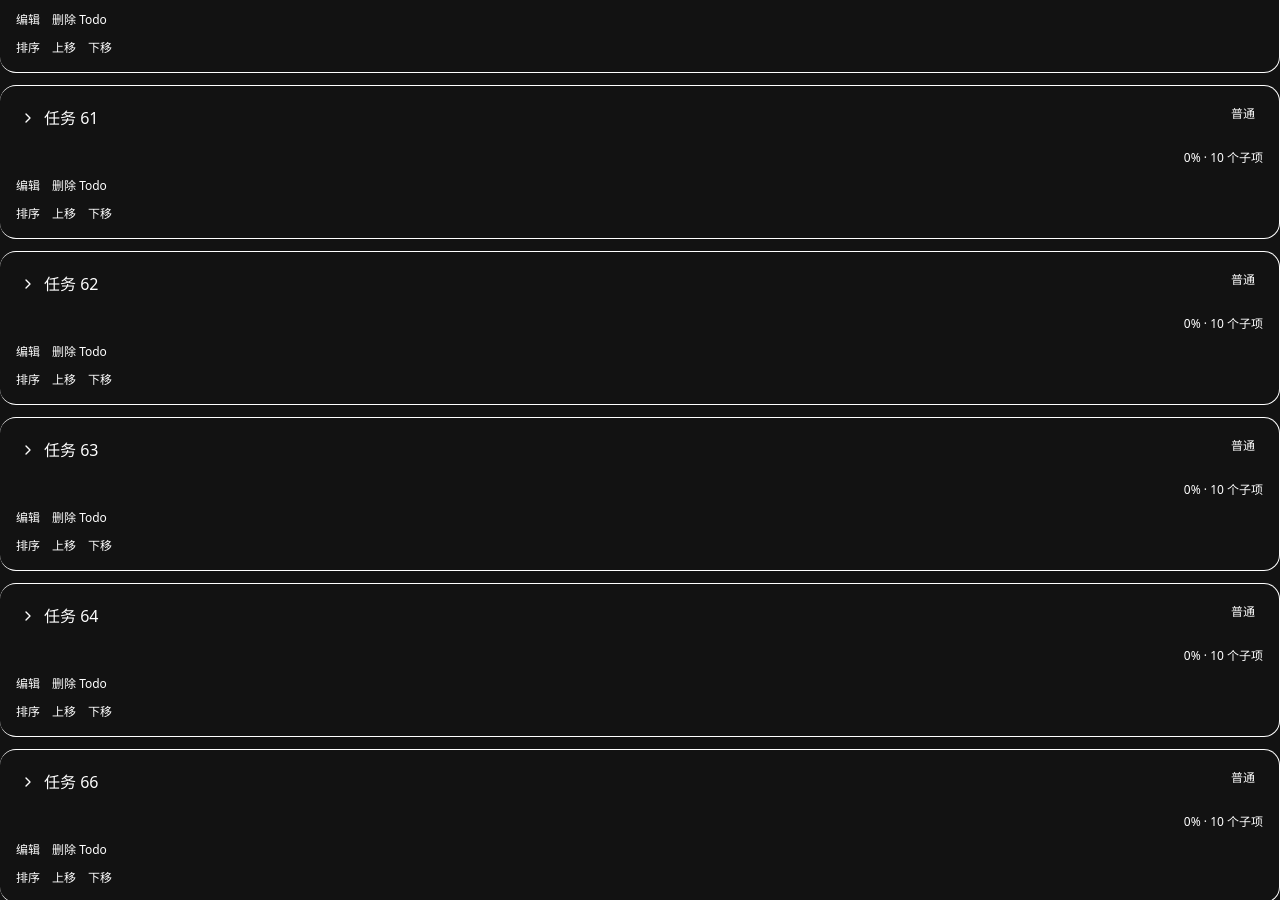
renders and toggles 100 Todos without losing rows
This screenshot has width=1280, height=900.
(page scrolled)
Click the button "任务 63" at (71, 450), box top-left (16, 434), bottom-right (1211, 466)
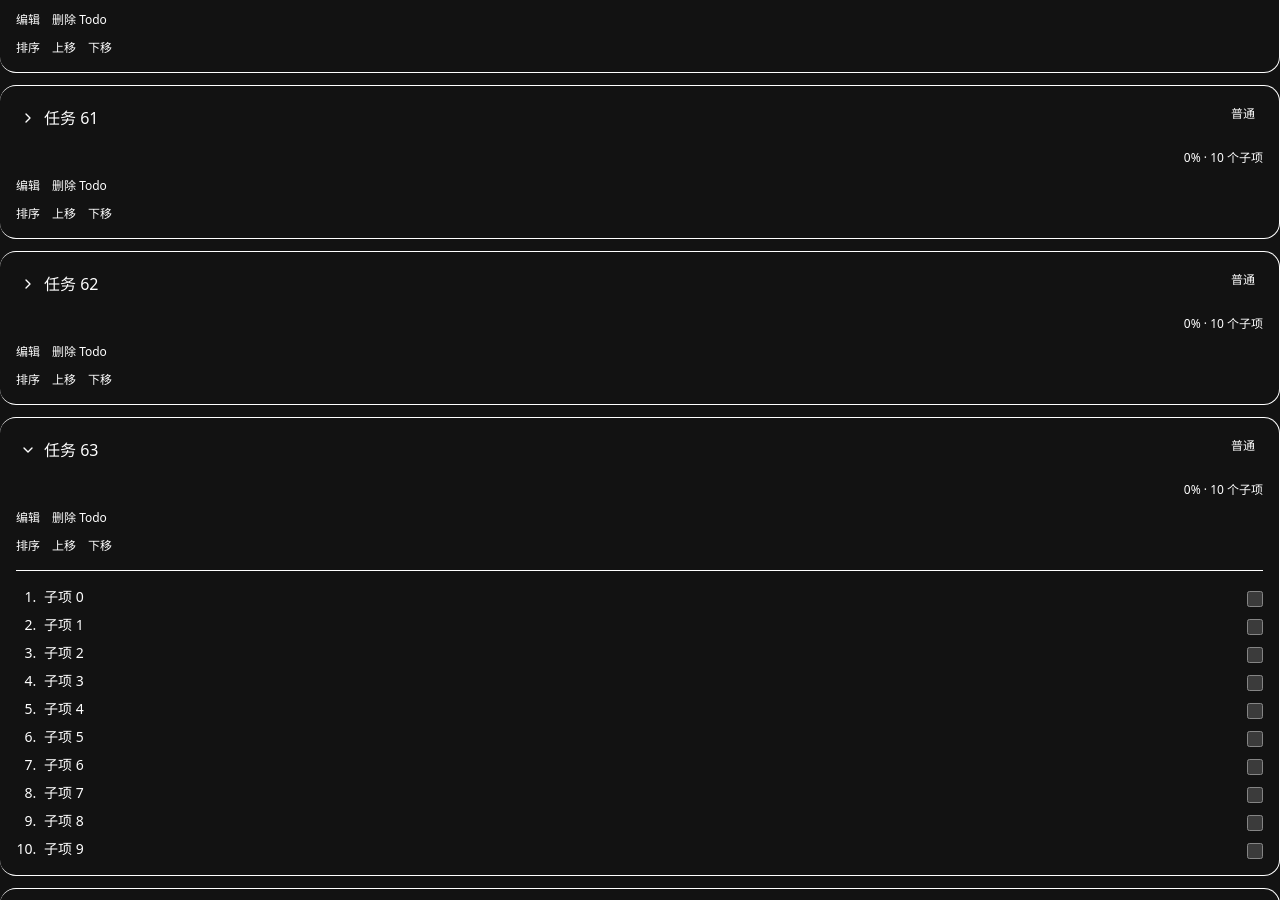
Check: the button "任务 63" is expanded
Click the button "任务 63" at (71, 450), box top-left (16, 434), bottom-right (1211, 466)
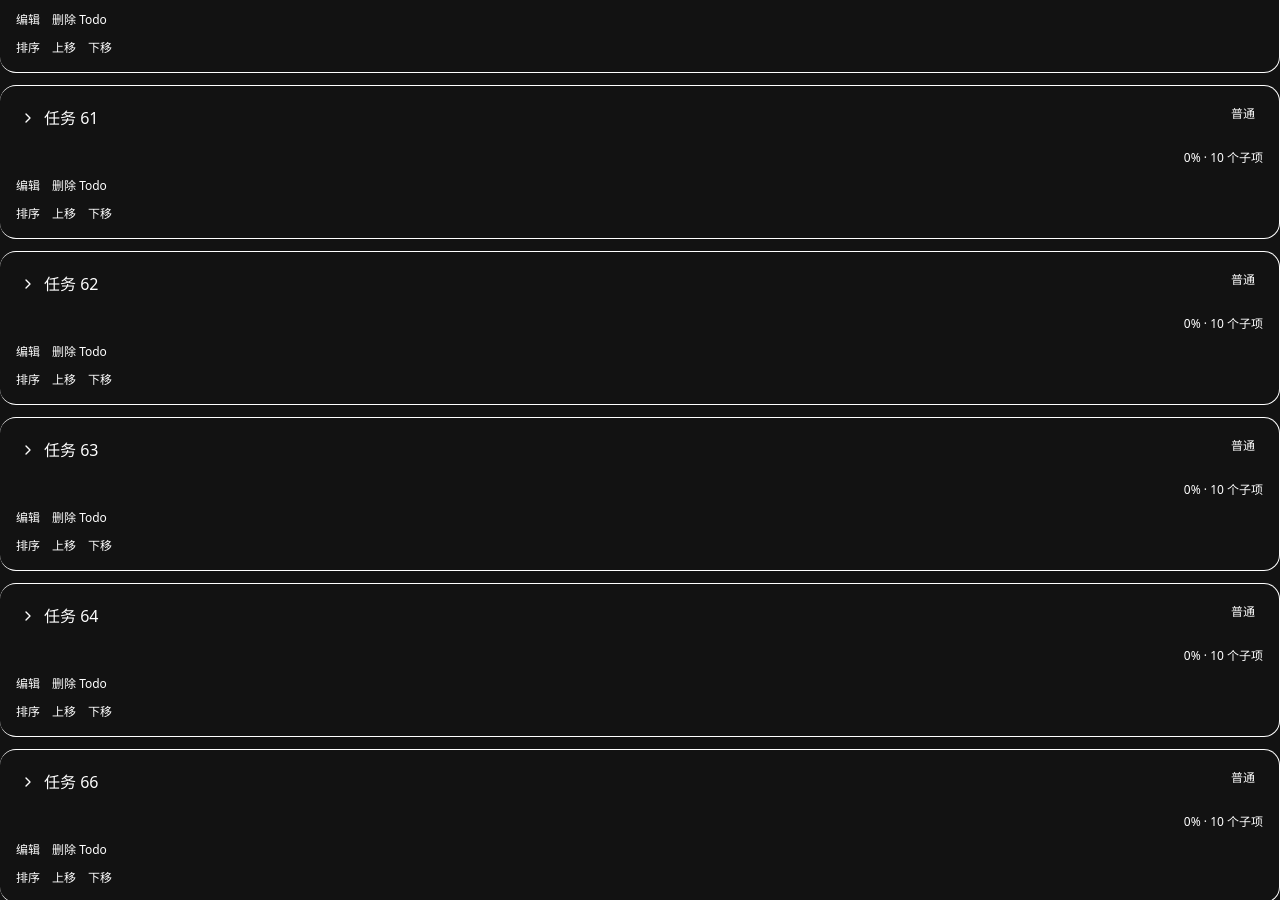
Check: the button "任务 63" is collapsed, box top-left (16, 434), bottom-right (1211, 466)
